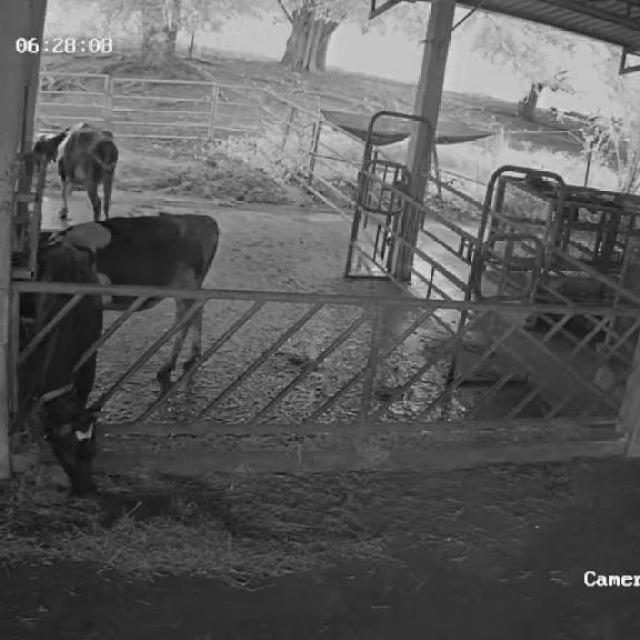feeding: (20, 238, 117, 500)
standing: (40, 207, 227, 382), (32, 117, 118, 215)
